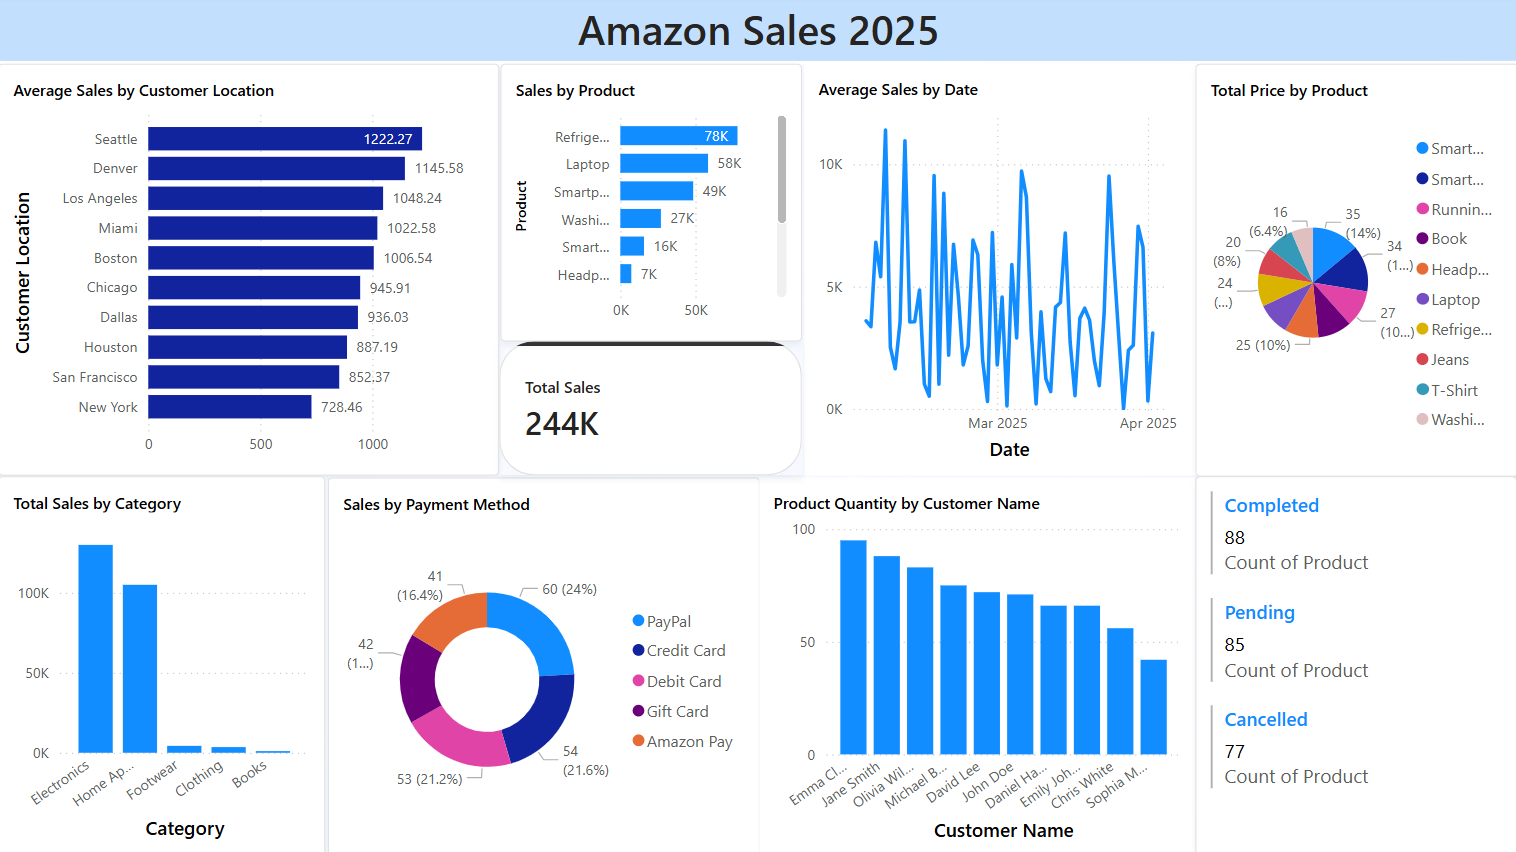

The dashboard page shown, as its layout file describes it:
{"tool":"powerbi","page":{"name":"Page 1","canvas":[1280,720],"ordinal":0},"visuals":[{"type":"lineChart","fields":{"Category":["amazon_sales_data 2025.Date"],"Y":["amazon_sales_data 2025.Total Sales"]},"box":[677.7,53.8,330.1,346.1],"z":0},{"type":"pieChart","fields":{"Y":["amazon_sales_data 2025.Price"],"Category":["amazon_sales_data 2025.Product"]},"box":[1007.4,53.5,272.4,347],"z":1},{"type":"textbox","title":"Amazon Sales 2025","box":[0,0,1279.7,53.6],"z":2},{"type":"barChart","fields":{"Category":["amazon_sales_data 2025.Customer Location"],"Y":["amazon_sales_data 2025.Total Sales"]},"box":[0,53.8,421.7,346.1],"z":3},{"type":"columnChart","fields":{"Category":["amazon_sales_data 2025.Category"],"Y":["amazon_sales_data 2025.Total Sales"]},"box":[0,400.5,274.9,319.6],"z":4},{"type":"cardVisual","fields":{"Data":["amazon_sales_data 2025.Total Sales"]},"box":[436.5,420.4,151.7,133.1],"z":5},{"type":"donutChart","fields":{"Category":["amazon_sales_data 2025.Payment Method"],"Y":["amazon_sales_data 2025.Total Sales"]},"box":[277.3,401.7,363.2,318.4],"z":6},{"type":"columnChart","fields":{"Category":["amazon_sales_data 2025.Customer Name"],"Y":["amazon_sales_data 2025.Quantity"]},"box":[640.6,401.5,366.7,318.8],"z":7},{"type":"multiRowCard","fields":{"Values":["amazon_sales_data 2025.Product","amazon_sales_data 2025.Status"]},"box":[1007,400.1,270,319.9],"z":8},{"type":"cardVisual","fields":{"Data":["amazon_sales_data 2025.Total Sales"]},"box":[422,287,255.4,113.1],"z":9},{"type":"barChart","fields":{"Category":["amazon_sales_data 2025.Product"],"Y":["amazon_sales_data 2025.Total Sales"]},"box":[422.9,53.5,253.7,233.8],"z":10}]}

Visuals, with their boxes in screenshot pixels (x1, y1, x2, y2), scaled from the page's 1280x720 canvas onto the 1516x852 screenshot:
lineChart - amazon_sales_data 2025.Date x amazon_sales_data 2025.Total Sales: detection(803, 64, 1194, 473)
pieChart - amazon_sales_data 2025.Price x amazon_sales_data 2025.Product: detection(1193, 63, 1515, 474)
"Amazon Sales 2025" textbox: detection(0, 0, 1515, 63)
barChart - amazon_sales_data 2025.Customer Location x amazon_sales_data 2025.Total Sales: detection(0, 64, 499, 473)
columnChart - amazon_sales_data 2025.Category x amazon_sales_data 2025.Total Sales: detection(0, 474, 326, 851)
cardVisual - amazon_sales_data 2025.Total Sales: detection(517, 497, 697, 655)
donutChart - amazon_sales_data 2025.Payment Method x amazon_sales_data 2025.Total Sales: detection(328, 475, 759, 851)
columnChart - amazon_sales_data 2025.Customer Name x amazon_sales_data 2025.Quantity: detection(759, 475, 1193, 851)
multiRowCard - amazon_sales_data 2025.Product x amazon_sales_data 2025.Status: detection(1193, 473, 1512, 851)
cardVisual - amazon_sales_data 2025.Total Sales: detection(500, 340, 802, 473)
barChart - amazon_sales_data 2025.Product x amazon_sales_data 2025.Total Sales: detection(501, 63, 801, 340)
